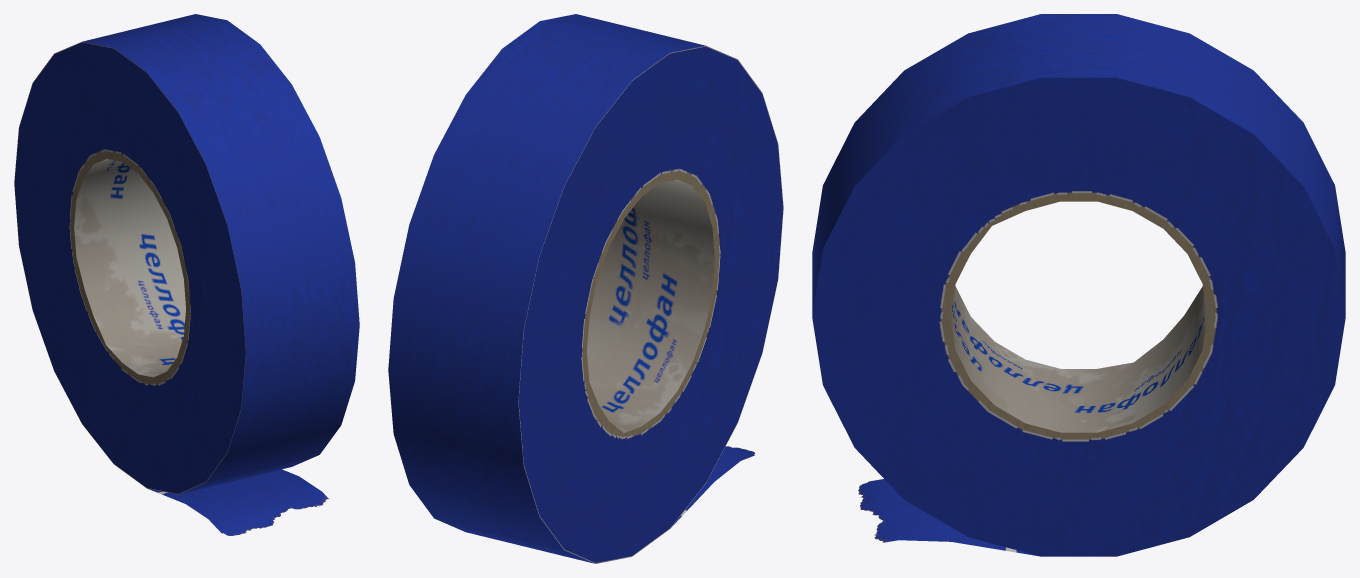
The model's file is cinta.gltf.
The picture shows the model from 3 angles, left to right: view 1: azimuth 30°, elevation 25°; view 2: azimuth 150°, elevation 25°; view 3: azimuth 270°, elevation 25°; orthographic projection. The views are drawn at different scales.
Parts seen in each view (by area): view 1: TAPE_LP; view 2: TAPE_LP; view 3: TAPE_LP.
Boxes of the visible parts, box(x1,y1,x2,y2) form: TAPE_LP: box(14, 14, 359, 535); TAPE_LP: box(388, 14, 783, 563); TAPE_LP: box(812, 14, 1345, 556).
Size of the model in its own units: 0.5657 by 2.01 by 2.
Materials: 1 (1 with a texture image).
